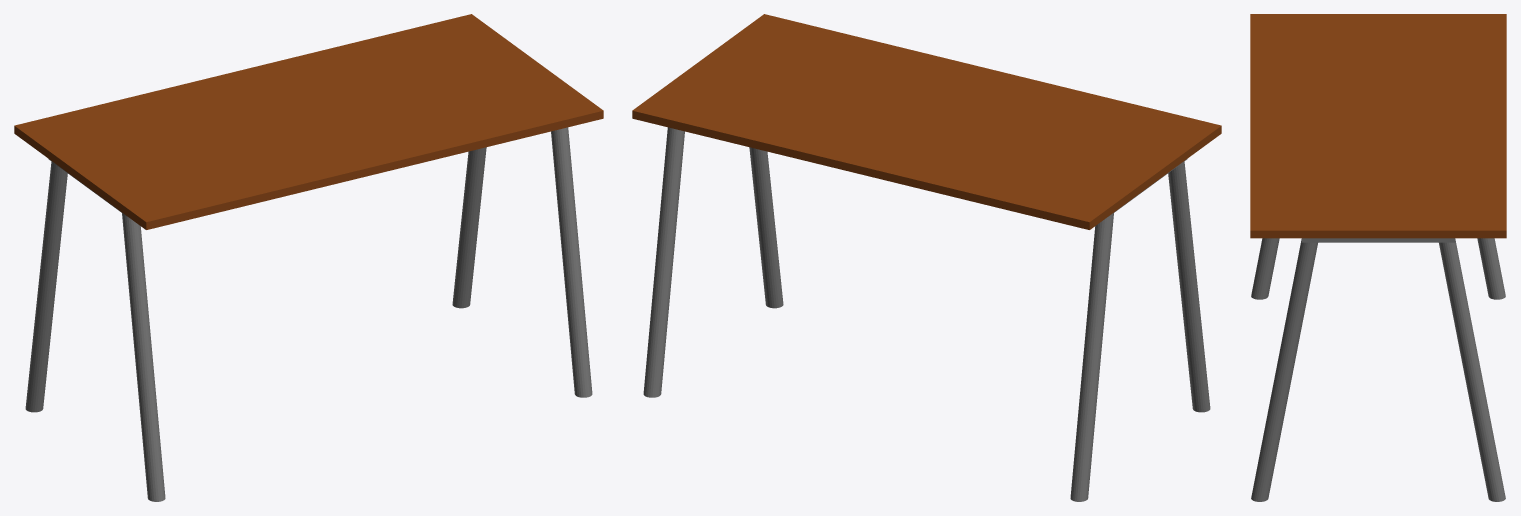
3 views of the same model, side by side, from view 1: azimuth 30°, elevation 25°; view 2: azimuth 150°, elevation 25°; view 3: azimuth 270°, elevation 25° (orthographic). The views are drawn at different scales.
Visible parts, largest first — view 1: Mesh1 Galant_120_x_60_1 Model; view 2: Mesh1 Galant_120_x_60_1 Model; view 3: Mesh1 Galant_120_x_60_1 Model.
Part boxes in pixels (<box>): Mesh1 Galant_120_x_60_1 Model: <box>14,14,603,501</box>; Mesh1 Galant_120_x_60_1 Model: <box>632,14,1221,501</box>; Mesh1 Galant_120_x_60_1 Model: <box>1250,14,1506,501</box>.
Size of the model in its own units: 0.7906 by 0.4677 by 0.3953.
